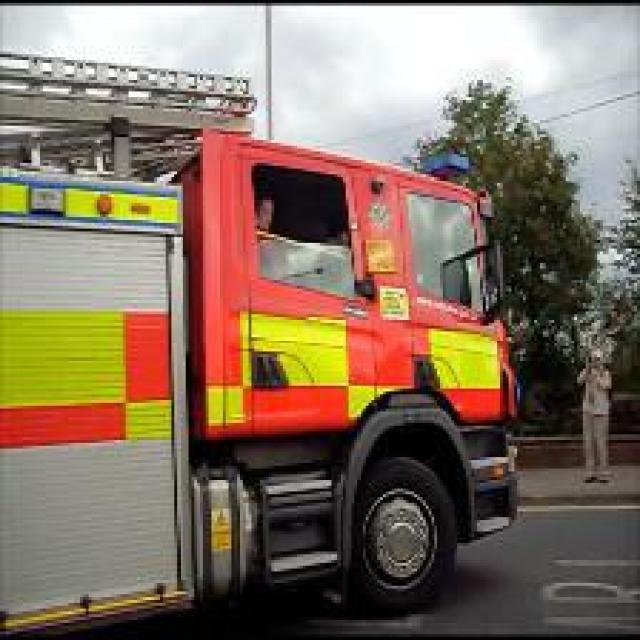other: (179, 156, 521, 416), (0, 317, 166, 434)
